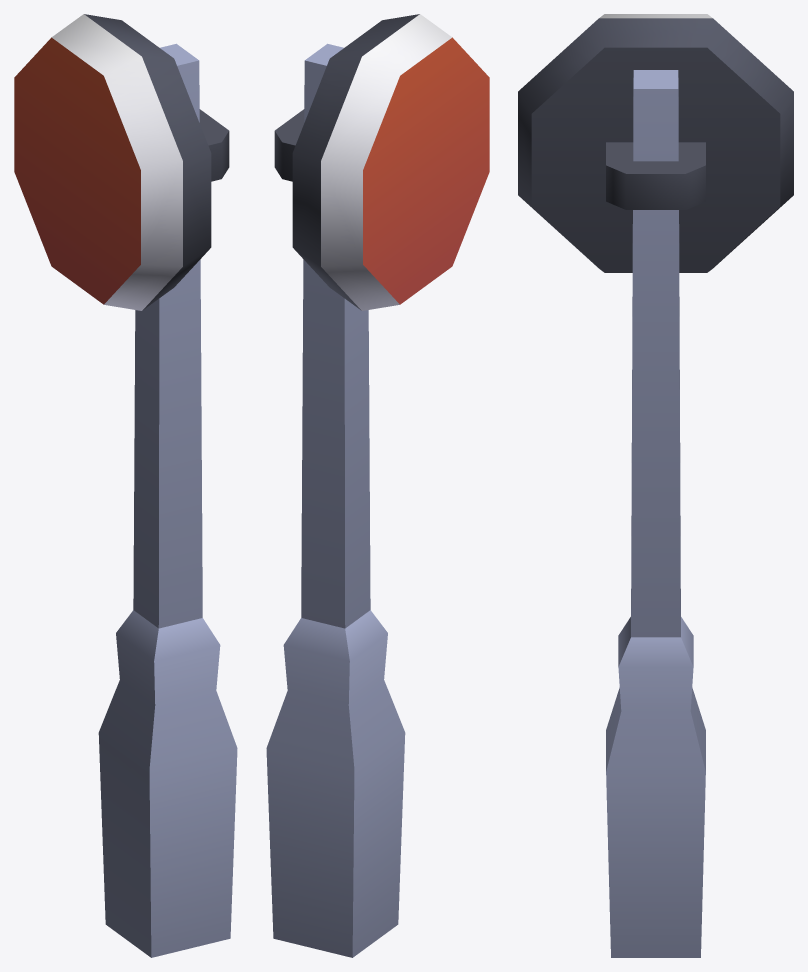
File: road-sign-stop.glb
The picture shows the model from 3 angles, left to right: view 1: azimuth 30°, elevation 25°; view 2: azimuth 150°, elevation 25°; view 3: azimuth 270°, elevation 25°; orthographic projection.
Visible parts, largest first — view 1: road-sign-stop; view 2: road-sign-stop; view 3: road-sign-stop.
Part boxes in pixels (x1,y1,x2,y2): road-sign-stop: (14,14,237,957); road-sign-stop: (266,14,489,957); road-sign-stop: (518,14,793,957).
Bounding box in the file's own units: 0.0775 × 0.4941 × 0.1382.
Materials: 1 (1 with a texture image).
